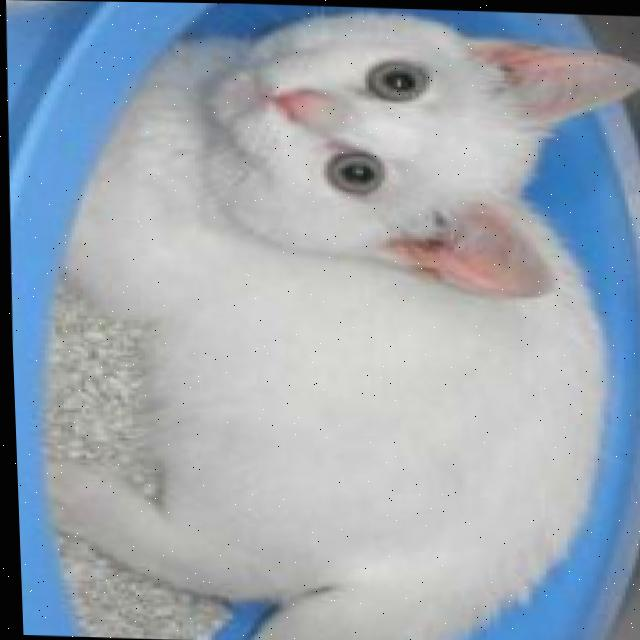American Bobtail: (23, 0, 640, 640)
